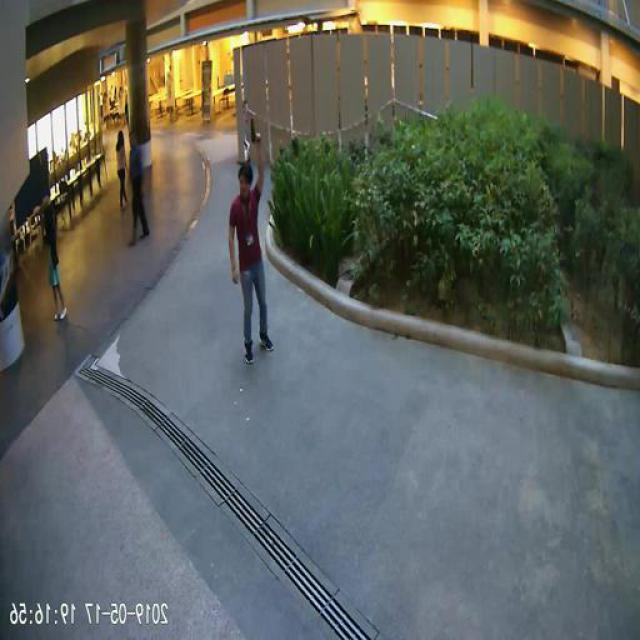Gun: (252, 115, 262, 141)
